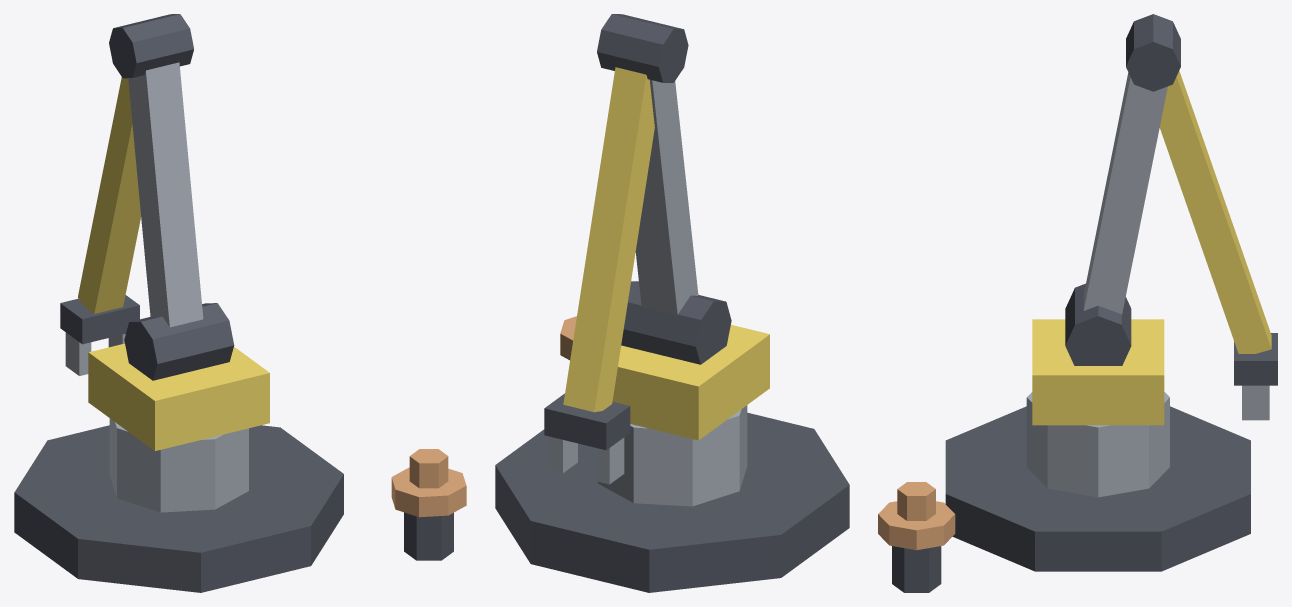
The model's file is braco_sem_textura.glb.
3 views of the same model, side by side, from view 1: azimuth 30°, elevation 25°; view 2: azimuth 150°, elevation 25°; view 3: azimuth 270°, elevation 25° (orthographic). The views are drawn at different scales.
Visible parts, largest first — view 1: braco_base, braco_giro, braco_braco1, braco_braco2, braco_garra; view 2: braco_base, braco_giro, braco_braco2, braco_braco1, braco_garra; view 3: braco_base, braco_giro, braco_braco1, braco_braco2, braco_garra.
Part boxes in pixels (x1=…): braco_base: x1=14, y1=418, x2=466, y2=592; braco_giro: x1=88, y1=303, x2=269, y2=450; braco_braco1: x1=109, y1=14, x2=203, y2=327; braco_braco2: x1=78, y1=77, x2=140, y2=313; braco_garra: x1=60, y1=295, x2=139, y2=375; braco_base: x1=495, y1=316, x2=849, y2=592; braco_giro: x1=612, y1=281, x2=769, y2=440; braco_braco2: x1=563, y1=67, x2=654, y2=412; braco_braco1: x1=597, y1=14, x2=698, y2=315; braco_garra: x1=544, y1=393, x2=630, y2=484; braco_base: x1=878, y1=392, x2=1250, y2=592; braco_giro: x1=1032, y1=283, x2=1164, y2=425; braco_braco1: x1=1083, y1=14, x2=1180, y2=314; braco_braco2: x1=1159, y1=71, x2=1271, y2=353; braco_garra: x1=1234, y1=333, x2=1277, y2=420.
Size of the model in its own units: 0.6772 by 0.96 by 0.726.
